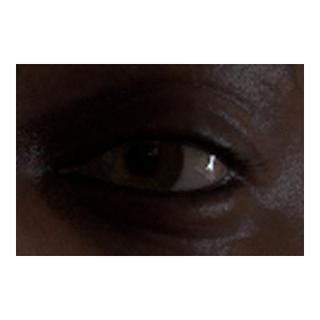pupil: (128, 144, 159, 175)
